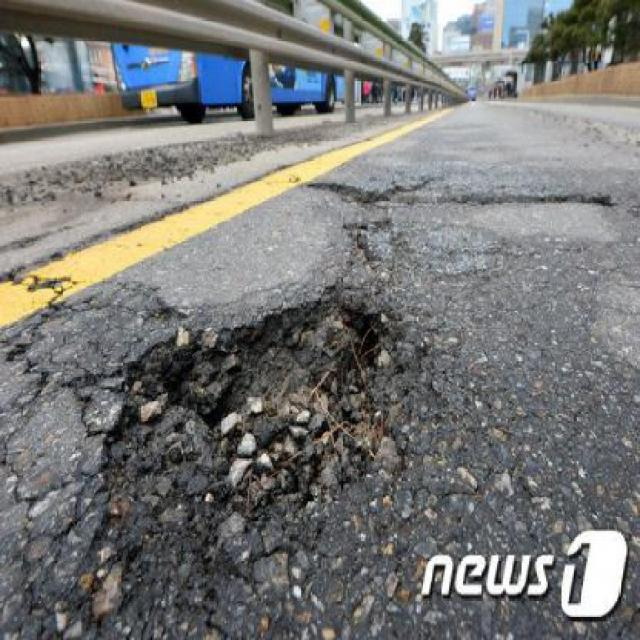Pothole: (111, 281, 400, 527)
